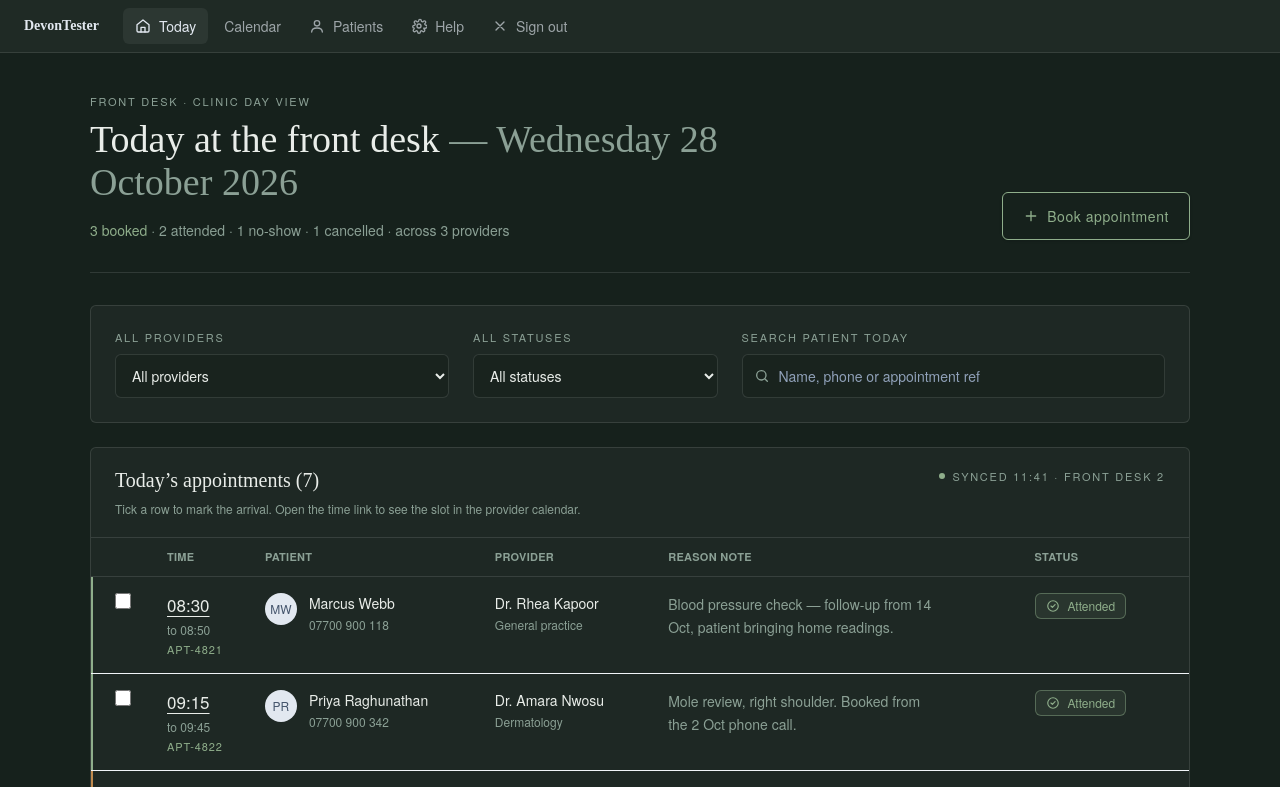
Scenario: App route guard › [AC-005] after sign out, going back to a protected route shows no protected data and prompts sign-in
The image size is (1280, 787).
Step 1. Click the button "Sign out" → (530, 26), box [480,8,579,44]
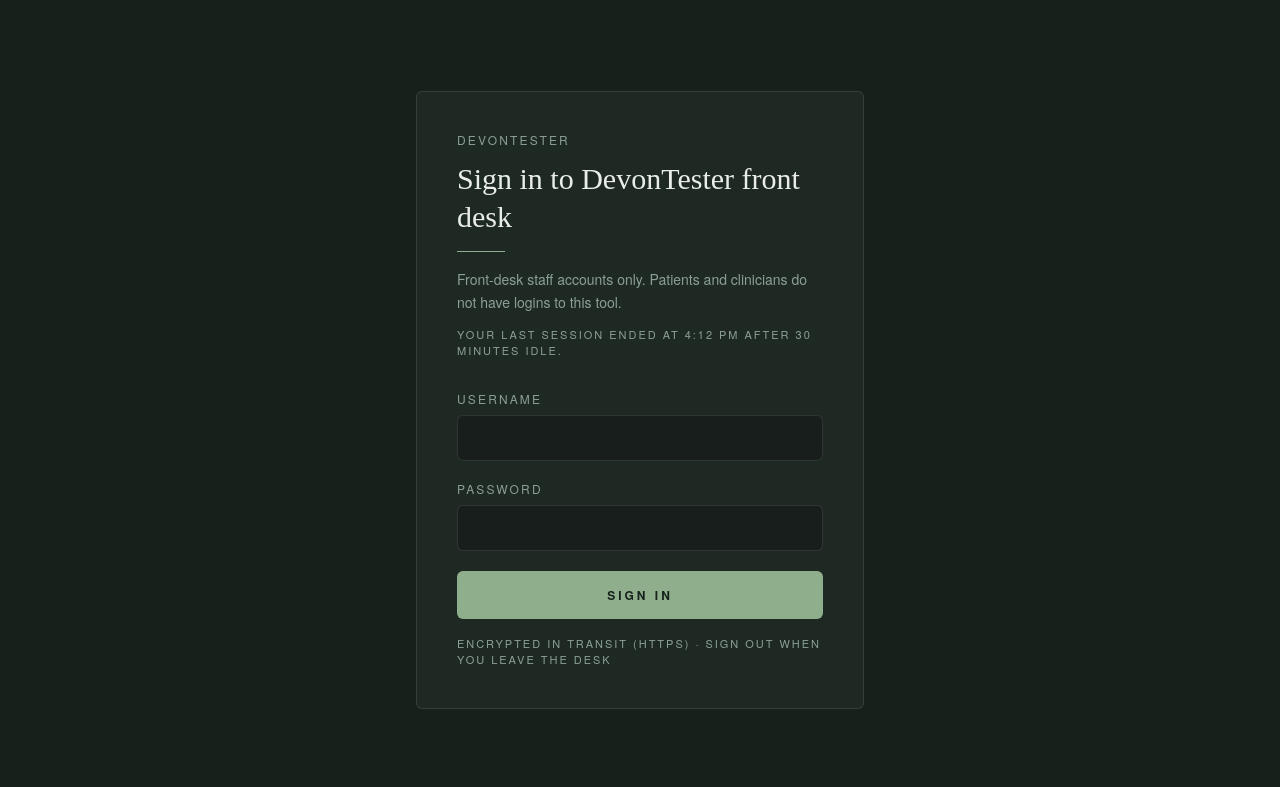
Expected: the heading "Sign in to DevonTester front desk" is shown, [457,160,823,235]
Expected: the link "Today" is gone
